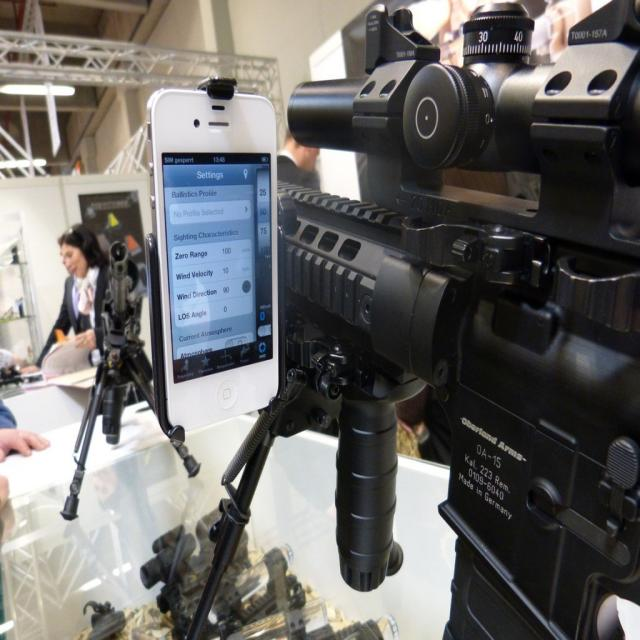firearm: (281, 5, 640, 636), (94, 244, 144, 439)
